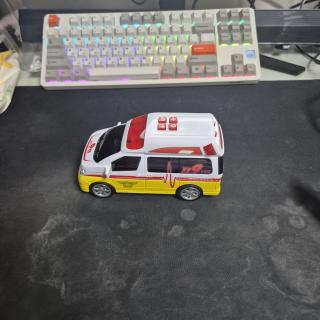Ambulance: (79, 113, 224, 200)
